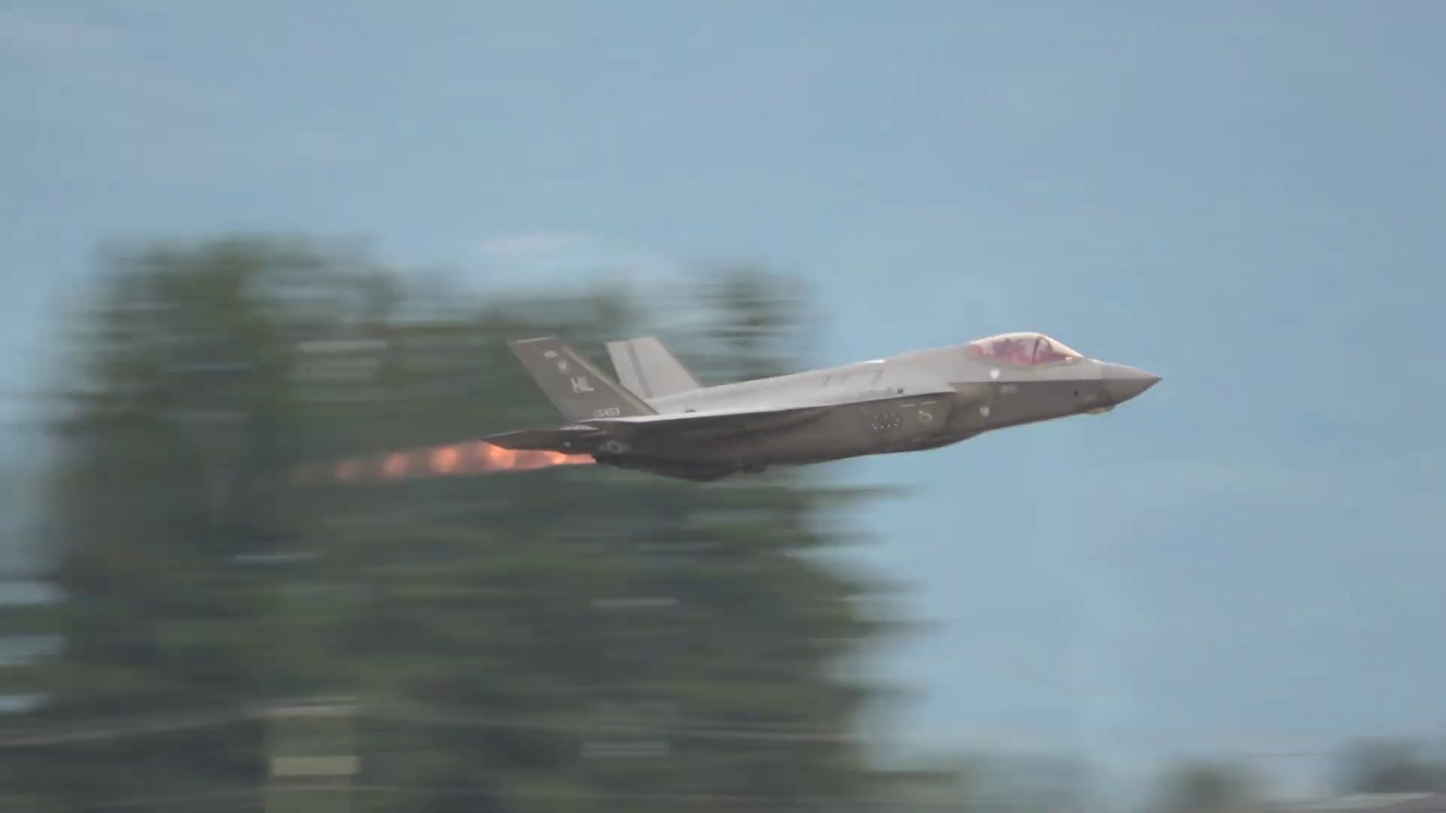F35: (479, 330, 1163, 483)
